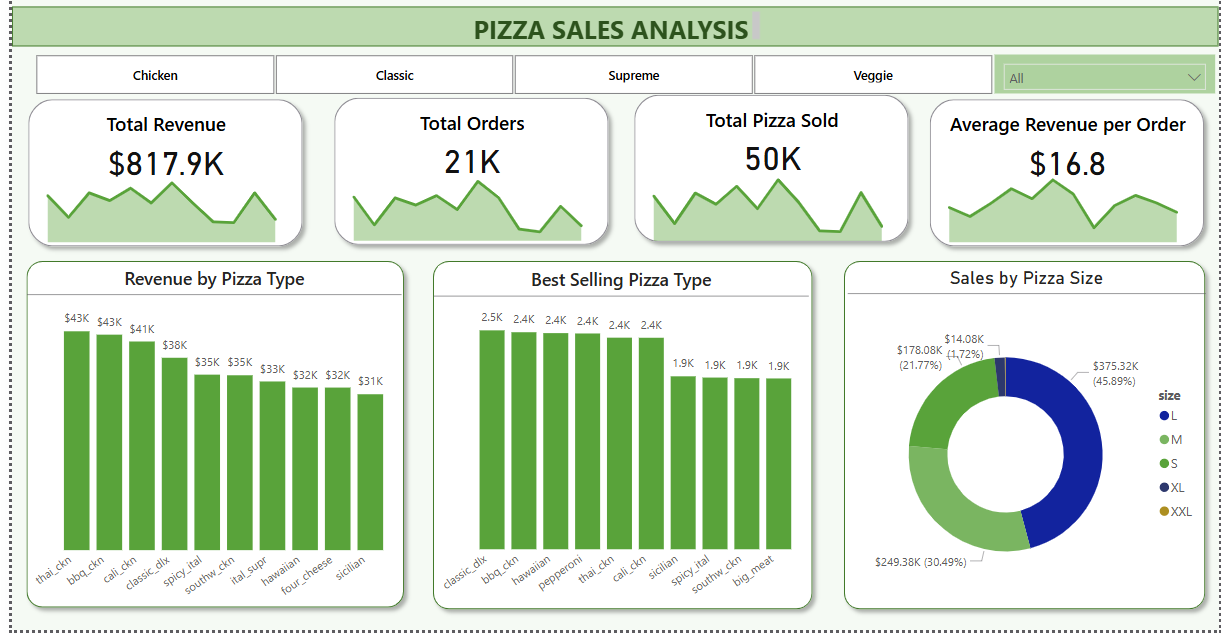

What the dashboard file says about the page in this screenshot:
{"tool":"powerbi","page":{"name":"Page 2","canvas":[1280,720],"ordinal":1},"visuals":[{"type":"cardVisual","fields":{"Data":["Order_details.Total Revenue"]},"box":[0,139.8,325,190.9],"z":0},{"type":"lineChart","fields":{"Category":["Orders1.Date.Variation.Date Hierarchy.Month"],"Y":["Order_details.Total Revenue"]},"box":[24.6,219.2,270.2,94.5],"z":1000},{"type":"cardVisual","fields":{"Data":["Order_details.Total Orders"]},"box":[323.7,138.5,325,190.9],"z":2000},{"type":"lineChart","fields":{"Category":["Orders1.Date.Variation.Date Hierarchy.Month"],"Y":["Order_details.Total Orders"]},"box":[348.3,217.9,270.2,94.5],"z":3000},{"type":"cardVisual","fields":{"Data":["Order_details.Total Pizza Sold"]},"box":[642.4,136,325,190.9],"z":4000},{"type":"lineChart","fields":{"Category":["Orders1.Date.Variation.Date Hierarchy.Month"],"Y":["Order_details.Total Pizza Sold"]},"box":[666.5,226.7,271.2,85.2],"z":5000},{"type":"cardVisual","fields":{"Data":["Order_details.Average Revenue"]},"box":[955.5,139.8,325,190.9],"z":6000},{"type":"lineChart","fields":{"Category":["Orders1.Date.Variation.Date Hierarchy.Month"],"Y":["Order_details.Average Revenue"]},"box":[980.1,219.1,270.2,94.5],"z":7000},{"type":"shape","box":[5.8,319.7,418.5,385.6],"z":8000},{"type":"shape","box":[437.9,319.7,420.4,387.5],"z":9000},{"type":"shape","box":[873.8,319.7,401.1,387.5],"z":10000},{"type":"columnChart","title":"Revenue by Pizza Type","fields":{"Category":["Pizzas3.pizza_type_id"],"Y":["Sum(Order_details.Total Price per Item)"]},"box":[15.5,333.2,397.2,372],"z":11000},{"type":"donutChart","title":"Sales by Pizza Size","fields":{"Y":["Order_details.Total Revenue"],"Category":["Pizzas3.size"]},"box":[885.4,335.2,379.7,368.1],"z":12000},{"type":"clusteredColumnChart","title":"Best Selling Pizza Type","fields":{"Category":["Pizzas3.pizza_type_id"],"Y":["Order_details.Total Pizza Sold"]},"box":[447.6,335.2,398,368.1],"z":13000},{"type":"slicer","fields":{"Values":["Pizza_types2.Category"]},"box":[0,103.1,1063,55.2],"z":14000},{"type":"shape","box":[0,58.9,1279.4,42.3],"z":15000},{"type":"textbox","box":[480.5,58.1,317.7,42.6],"z":16000},{"type":"slicer","title":"Pizza Types","fields":{"Values":["Pizzas3.pizza_type_id"]},"box":[1041.9,109.8,233.8,41.4],"z":17000}]}

Visuals, with their boxes on the page's 1280x720 design canvas (x1, y1, x2, y2). These are canvas units, not pixel positions in the 1221x633 screenshot, which may show the page scaled, cropped or inside an application window:
cardVisual - Order_details.Total Revenue: crop(0, 140, 325, 331)
lineChart - Orders1.Date.Variation.Date Hierarchy.Month x Order_details.Total Revenue: crop(25, 219, 295, 314)
cardVisual - Order_details.Total Orders: crop(324, 138, 649, 329)
lineChart - Orders1.Date.Variation.Date Hierarchy.Month x Order_details.Total Orders: crop(348, 218, 618, 312)
cardVisual - Order_details.Total Pizza Sold: crop(642, 136, 967, 327)
lineChart - Orders1.Date.Variation.Date Hierarchy.Month x Order_details.Total Pizza Sold: crop(666, 227, 938, 312)
cardVisual - Order_details.Average Revenue: crop(956, 140, 1280, 331)
lineChart - Orders1.Date.Variation.Date Hierarchy.Month x Order_details.Average Revenue: crop(980, 219, 1250, 314)
shape: crop(6, 320, 424, 705)
shape: crop(438, 320, 858, 707)
shape: crop(874, 320, 1275, 707)
"Revenue by Pizza Type" columnChart: crop(16, 333, 413, 705)
"Sales by Pizza Size" donutChart: crop(885, 335, 1265, 703)
"Best Selling Pizza Type" clusteredColumnChart: crop(448, 335, 846, 703)
slicer - Pizza_types2.Category: crop(0, 103, 1063, 158)
shape: crop(0, 59, 1279, 101)
textbox: crop(480, 58, 798, 101)
"Pizza Types" slicer: crop(1042, 110, 1276, 151)
